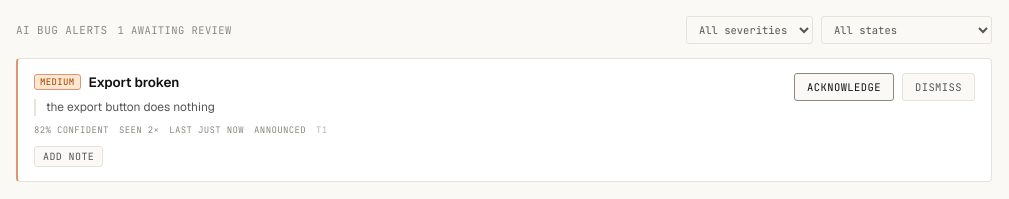
Test case: BugAlertsPage › acknowledges a row and swaps the button for a done marker
Click the button with class "ack" at point(844, 87), box x1=794 y1=73 x2=894 y2=101
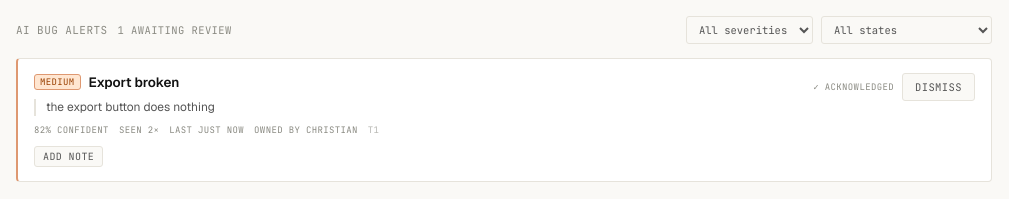
Result: the text "acknowledged" is shown at x1=813 y1=81 x2=894 y2=93
Result: the text "owned by Christian" is shown at x1=254 y1=124 x2=358 y2=136
